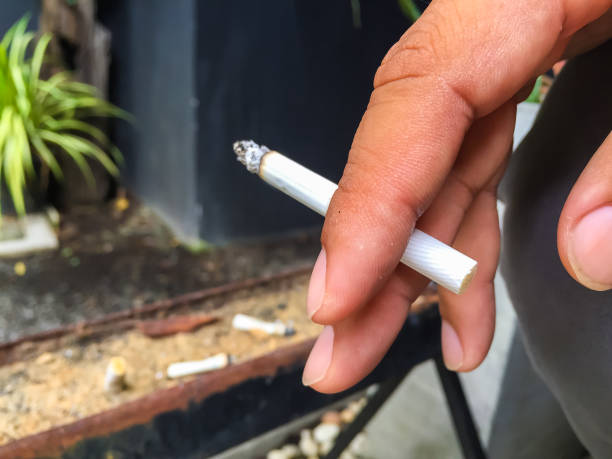cigarette: (232, 135, 480, 294), (165, 351, 236, 379), (232, 313, 297, 339)
